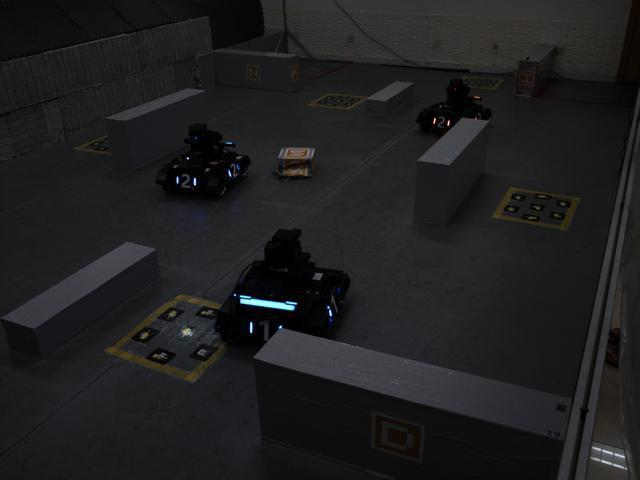armor: (243, 315, 285, 348), (167, 166, 203, 195), (323, 282, 342, 328), (429, 113, 452, 130), (222, 162, 242, 179)
